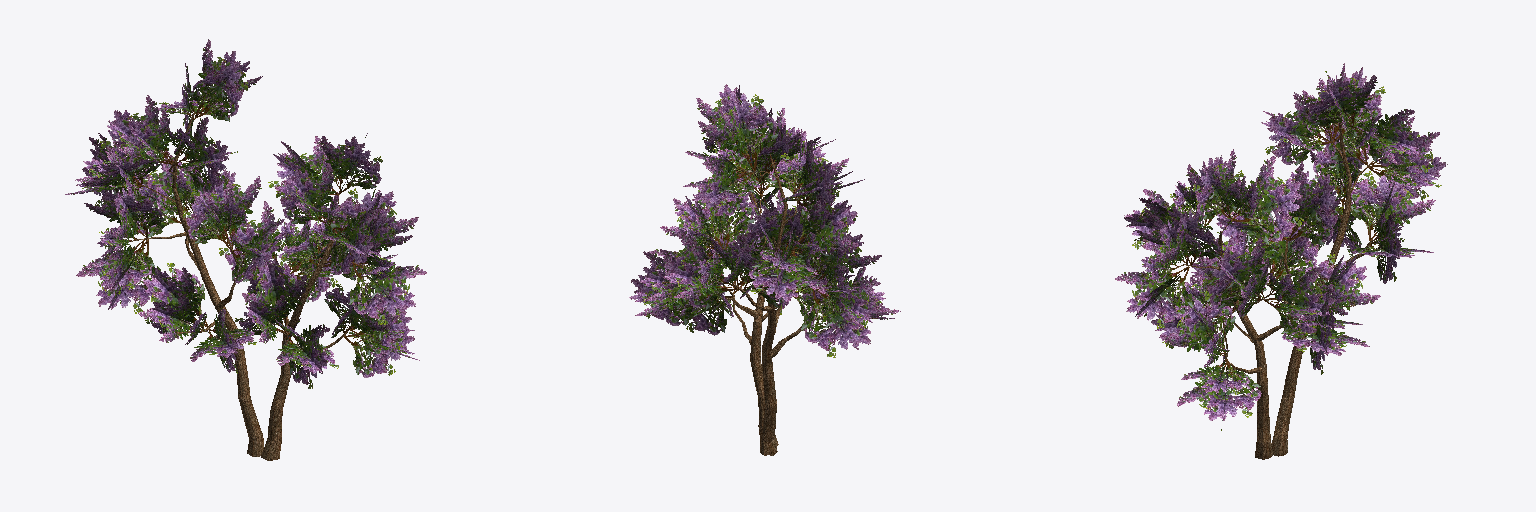
The picture shows the model from 3 angles: view 1: azimuth 30°, elevation 25°; view 2: azimuth 150°, elevation 25°; view 3: azimuth 270°, elevation 25°; orthographic projection.
Parts seen in each view (by area): view 1: lilac_tree_1; view 2: lilac_tree_1; view 3: lilac_tree_1.
Boxes of the visible parts, x1,y1,x2,y2 form: lilac_tree_1: [65, 39, 426, 460]; lilac_tree_1: [629, 84, 900, 455]; lilac_tree_1: [1115, 63, 1447, 459].
Bounding box in the file's own units: 2.1 × 2.72 × 2.25.
2 materials, 2 textured.